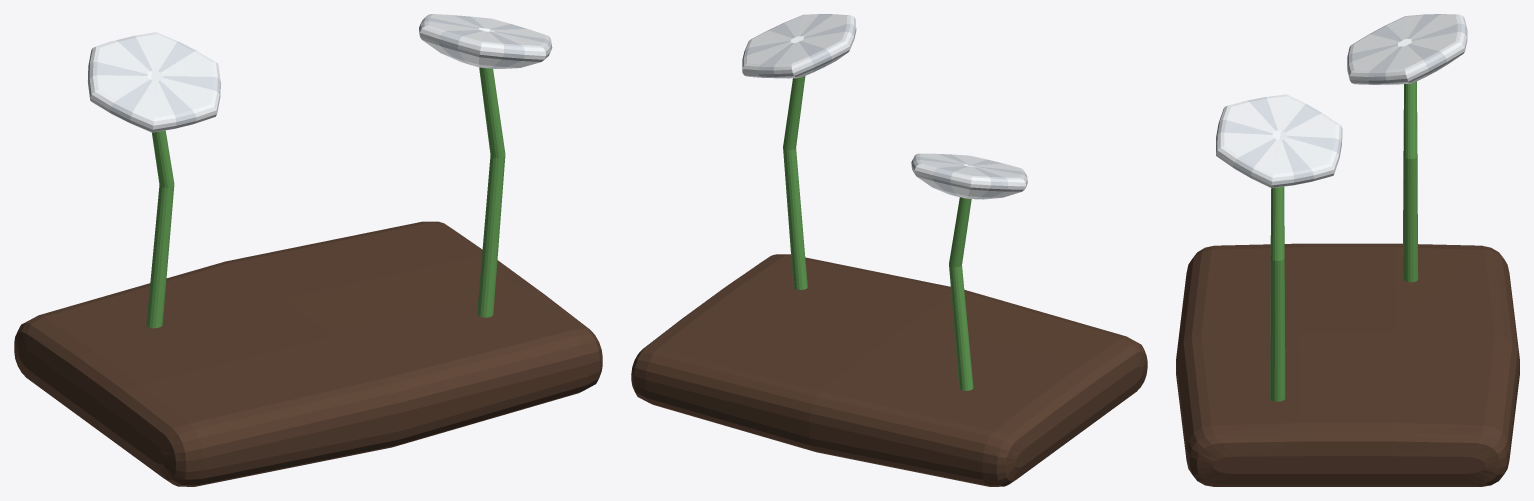
Rendered from CropBloomFar.obj.
3 renders of one model, left to right at view 1: azimuth 30°, elevation 25°; view 2: azimuth 150°, elevation 25°; view 3: azimuth 270°, elevation 25°, orthographic. The views are drawn at different scales.
Size of the model in its own units: 3 by 2.42 by 2.2.
